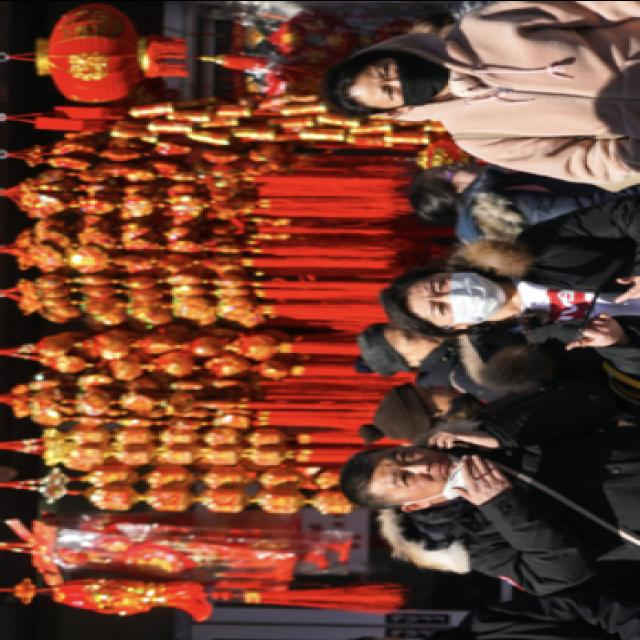mask_weared_incorrect: (378, 445, 468, 499)
with_mask: (362, 50, 444, 106), (424, 272, 504, 325)
without_mask: (415, 382, 461, 412), (437, 162, 483, 188)
